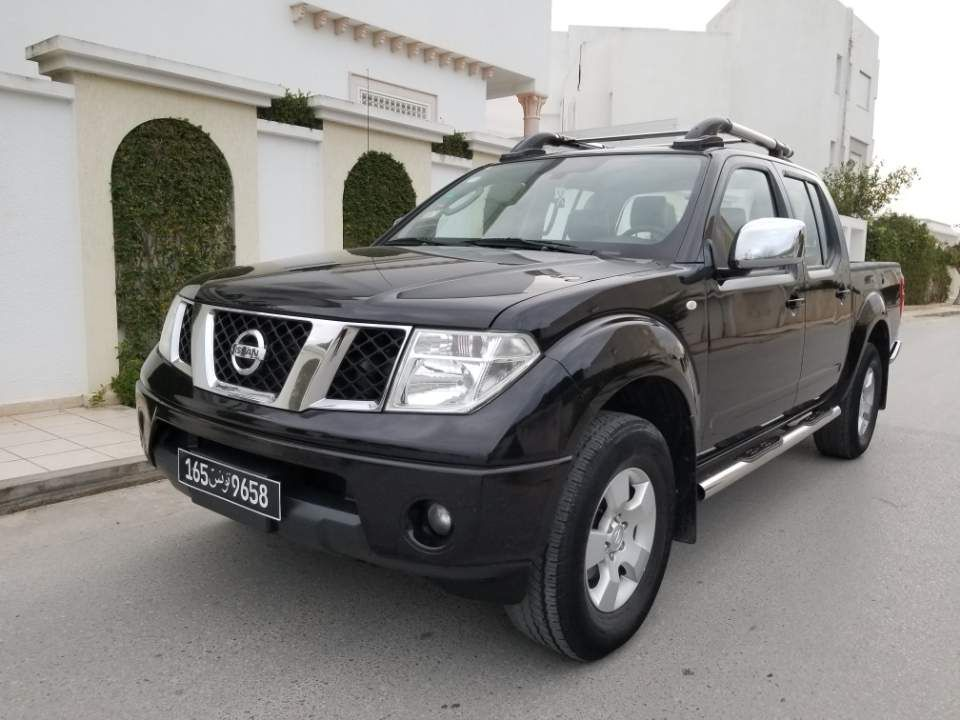LP: (175, 448, 281, 523)
